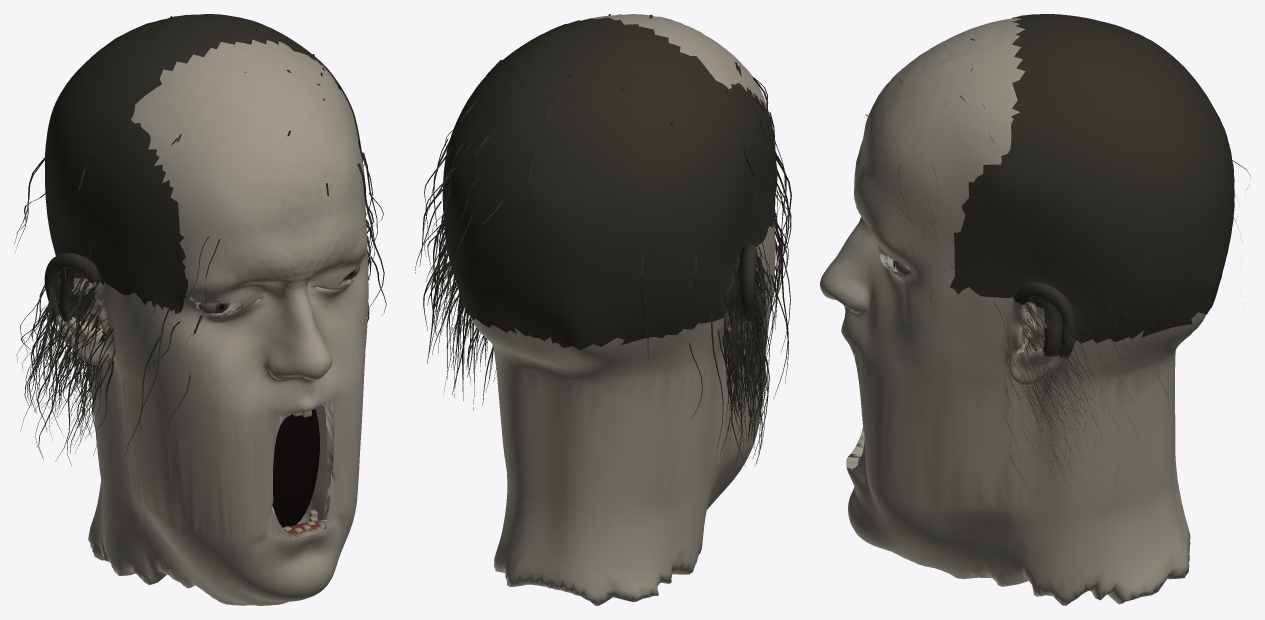
The model's file is passage-head.glb.
3 views of the same model, side by side, from view 1: azimuth 30°, elevation 25°; view 2: azimuth 150°, elevation 25°; view 3: azimuth 270°, elevation 25° (orthographic). The views are drawn at different scales.
Visible parts, largest first — view 1: Scannedagedvisitorskin, Dirtygreyhairfibres, Deeporalcavity; view 2: Dirtygreyhairfibres, Scannedagedvisitorskin; view 3: Scannedagedvisitorskin, Dirtygreyhairfibres.
Part boxes in pixels (x1,y1,x2,y2): Scannedagedvisitorskin: (56,39,368,605); Dirtygreyhairfibres: (14,14,386,465); Deeporalcavity: (272,409,319,527); Dirtygreyhairfibres: (415,14,791,467); Scannedagedvisitorskin: (468,14,775,605); Scannedagedvisitorskin: (820,18,1205,605); Dirtygreyhairfibres: (865,14,1250,487).
Bounding box in the file's own units: 0.4919 × 0.7224 × 0.5192.
